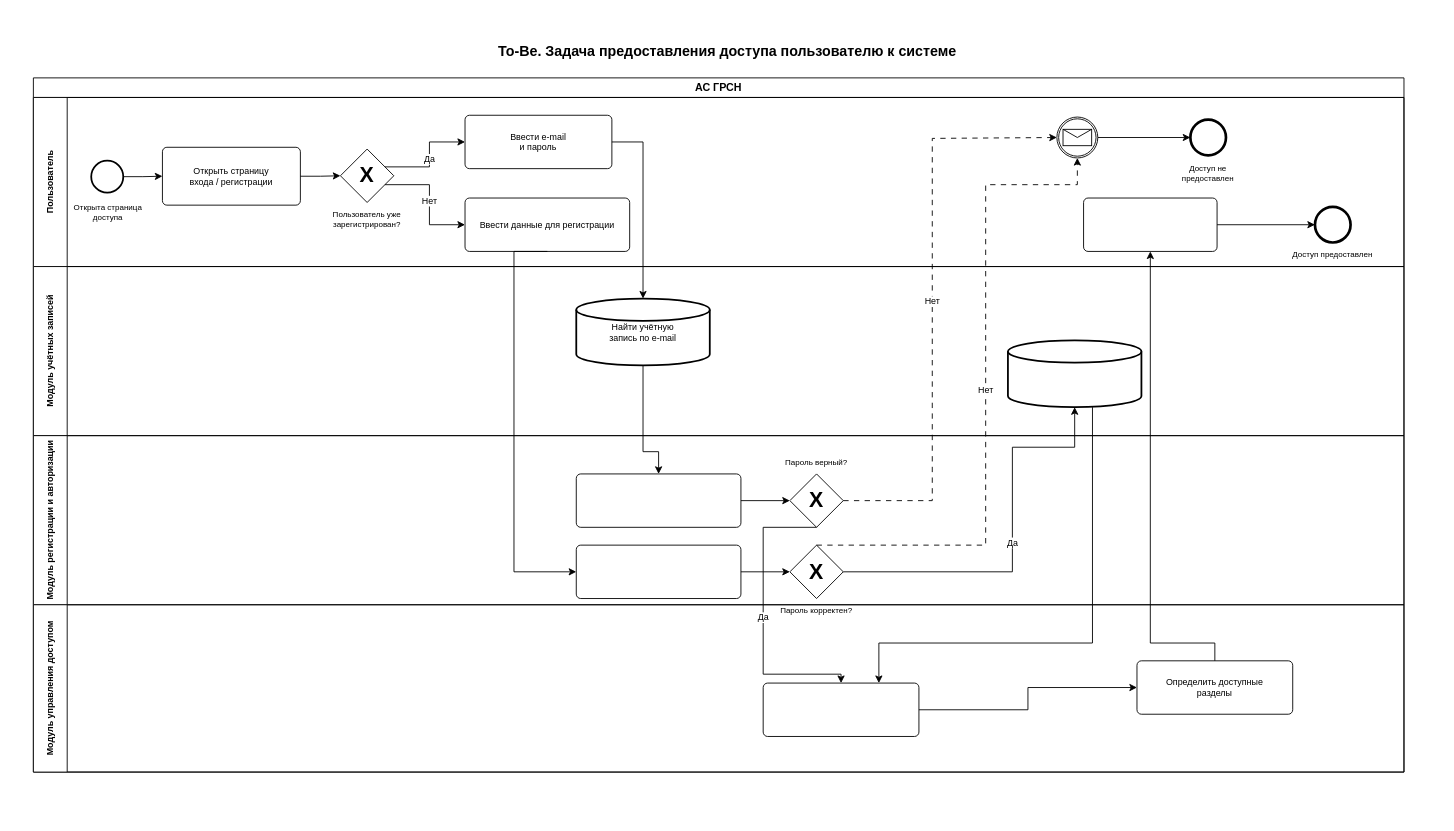
This 1454x831 diagram has some shape labels left out. Here are the shapes that lost their labels. From the top down, the centre of each, then its label:
At (1077,137): "Сообщение об ошибке".
At (1150,224): "Перейти в личный кабинет".
At (1074,373): "Создать новую учётную запись".
At (658,500): "Проверить пароль, статус учётной записи и блокировку после неудачных попыток".
At (658,571): "Проверить e-mail, пароль (от 8 символов, буквы и цифры) и повтор пароля".
At (840,709): "Предоставить доступ к системе".
